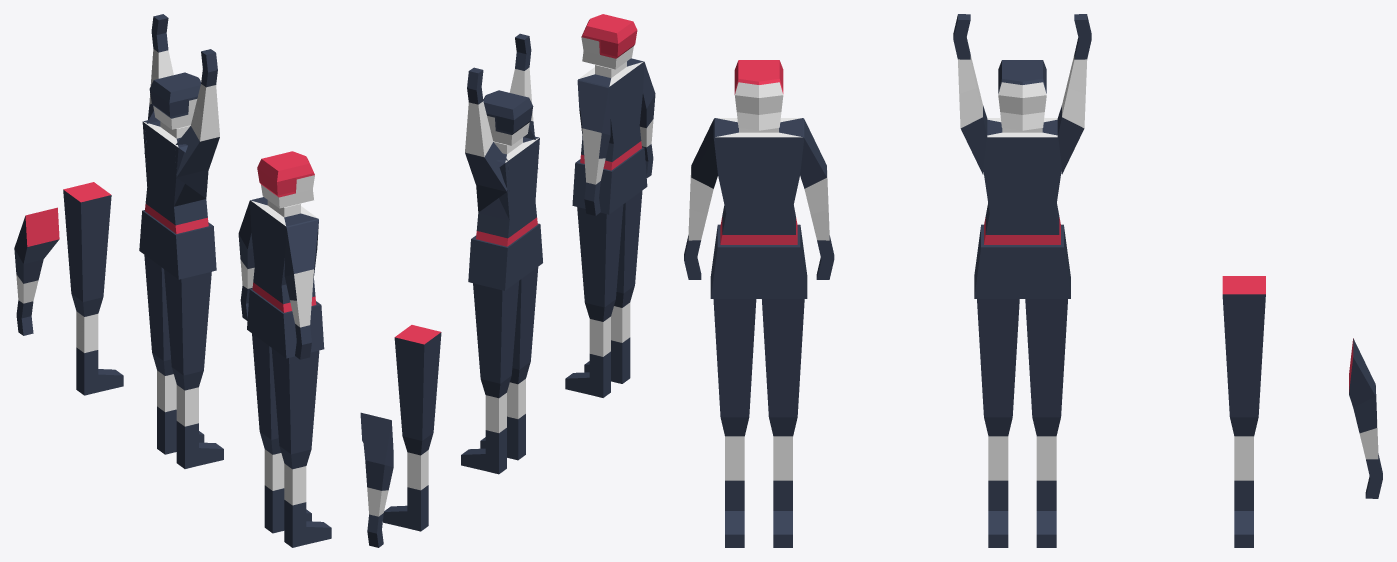
Rendered from assetBodies.fbx.
The picture shows the model from 3 angles, left to right: view 1: azimuth 30°, elevation 25°; view 2: azimuth 150°, elevation 25°; view 3: azimuth 270°, elevation 25°; orthographic projection. The views are drawn at different scales.
Parts seen in each view (by area): view 1: body.001, body, leg, arm, head.001, head; view 2: body.001, body, leg, arm, head.001, head; view 3: body, body.001, leg, head.001, head, arm.
Boxes of the visible parts, x1,y1,x2,y2 form: body.001: (139, 14, 223, 468); body: (238, 197, 331, 547); leg: (63, 182, 123, 395); arm: (14, 207, 59, 335); head.001: (257, 151, 314, 208); head: (149, 72, 200, 129); body.001: (461, 33, 542, 474); body: (565, 58, 655, 397); leg: (383, 325, 441, 531); arm: (360, 412, 393, 547); head.001: (581, 14, 637, 69); head: (483, 90, 533, 145); body: (684, 118, 834, 547); body.001: (953, 14, 1091, 547); leg: (1222, 276, 1265, 547); head.001: (734, 60, 783, 130); head: (998, 60, 1046, 130); arm: (1349, 338, 1382, 498).
Bounding box in the file's own units: 332 × 2593 × 3184.
